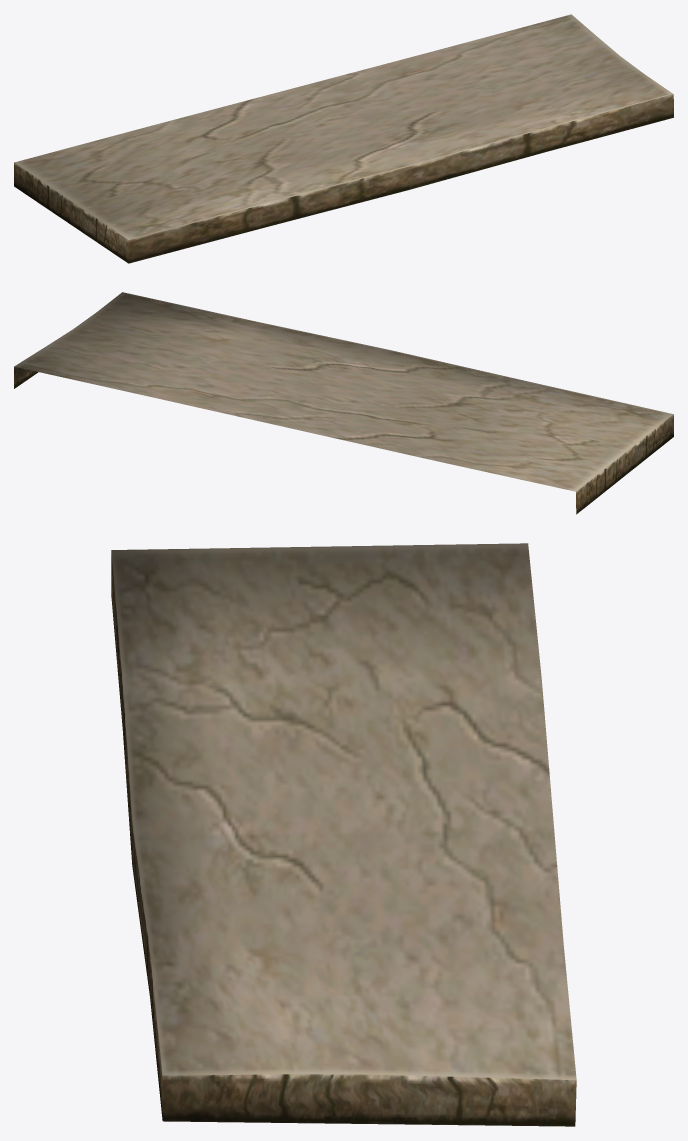
File: HTOWN01_GREENDRAGPORCH.fbx
The picture shows the model from 3 angles, top to bottom: view 1: azimuth 30°, elevation 25°; view 2: azimuth 150°, elevation 25°; view 3: azimuth 270°, elevation 25°; orthographic projection. The views are drawn at different scales.
Parts seen in each view (by area): view 1: HTOWN01_GREENDRAGPORCH; view 2: HTOWN01_GREENDRAGPORCH; view 3: HTOWN01_GREENDRAGPORCH.
Boxes of the visible parts, left/top/right/bottom form: HTOWN01_GREENDRAGPORCH: left=14, top=14, right=673, bottom=263; HTOWN01_GREENDRAGPORCH: left=14, top=292, right=673, bottom=514; HTOWN01_GREENDRAGPORCH: left=111, top=543, right=576, bottom=1126.
Bounding box in the file's own units: 78849 × 3156 × 28873.
Materials: 2 (2 with a texture image).
